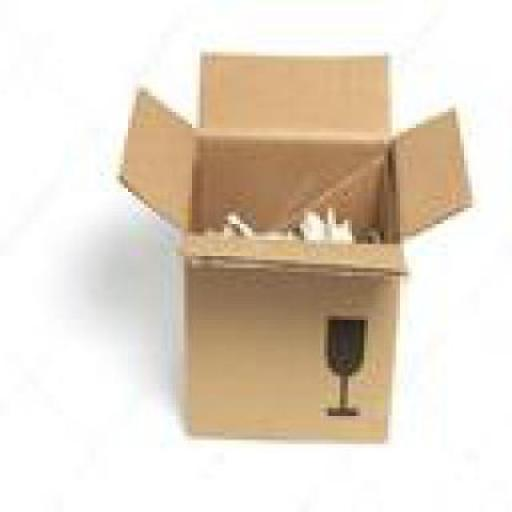cardboard: (116, 47, 468, 440)
metal: (204, 204, 300, 232), (284, 204, 352, 240)
